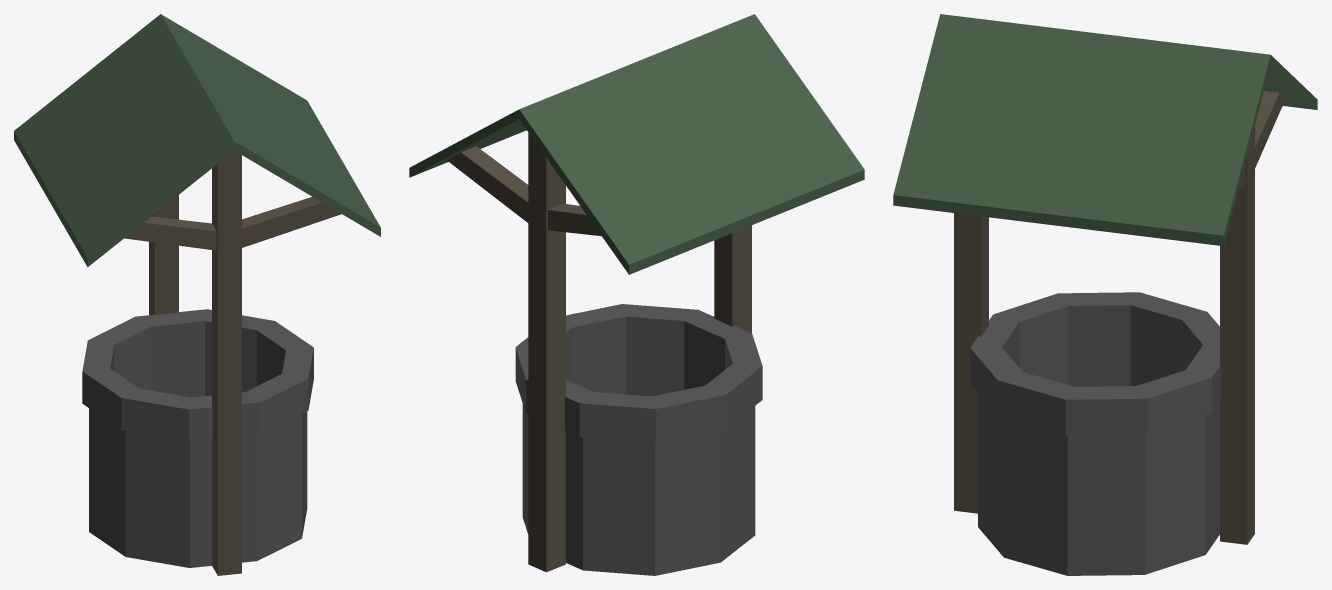
Rendered from well.fbx.
The picture shows the model from 3 angles, left to right: view 1: azimuth 30°, elevation 25°; view 2: azimuth 150°, elevation 25°; view 3: azimuth 270°, elevation 25°; orthographic projection. The views are drawn at different scales.
Visible parts, largest first — view 1: well; view 2: well; view 3: well.
Part boxes in pixels (left/top/right/bottom): well: left=14, top=14, right=380, bottom=575; well: left=409, top=14, right=864, bottom=575; well: left=893, top=14, right=1317, bottom=575.
Bounding box in the file's own units: 149 × 193 × 151.
